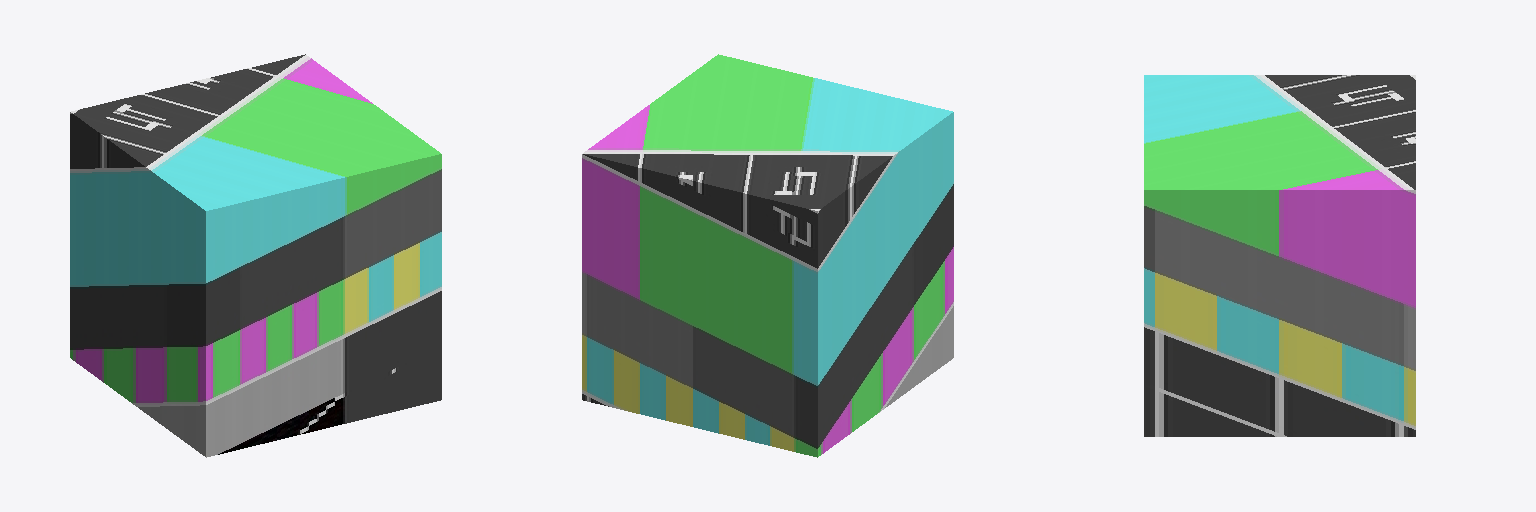
3 views of the same model, side by side, from view 1: azimuth 30°, elevation 25°; view 2: azimuth 150°, elevation 25°; view 3: azimuth 270°, elevation 25° (orthographic).
Visible parts, largest first — view 1: Box001; view 2: Box001; view 3: Box001.
Boxes of the visible parts, <box> form: Box001: <box>70,54,441,457</box>; Box001: <box>582,54,953,457</box>; Box001: <box>1144,75,1415,436</box>.
Bounding box in the file's own units: 7.71 × 7.71 × 7.71.
1 materials, 1 textured.